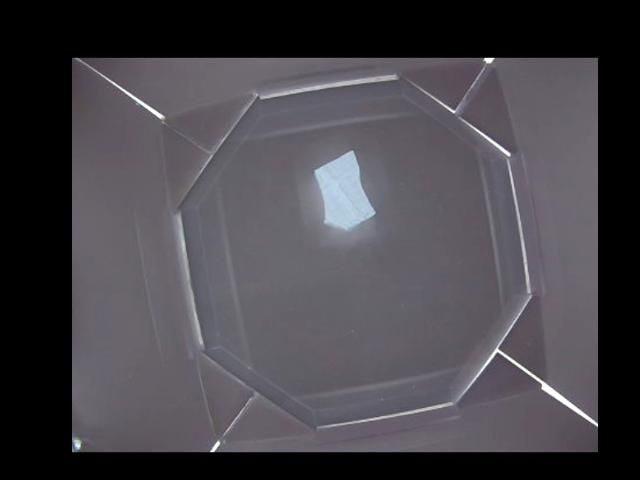China: (314, 149, 376, 229)
